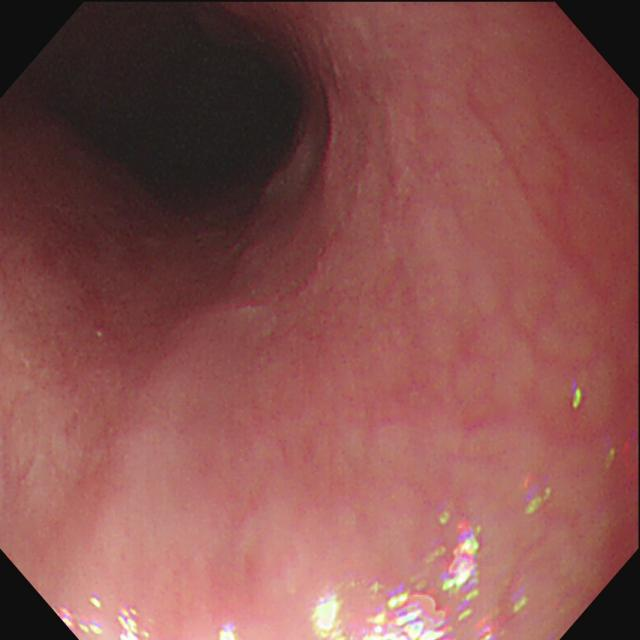E: (116, 34, 308, 203)
U: (310, 508, 529, 640), (53, 595, 103, 634), (524, 476, 554, 515), (118, 607, 152, 640), (217, 624, 242, 640), (571, 384, 583, 412)
